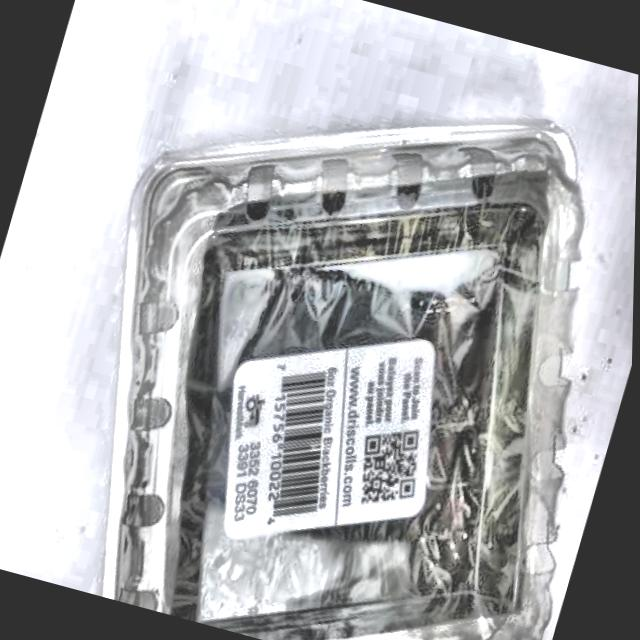Plastic: (26, 18, 640, 640)
